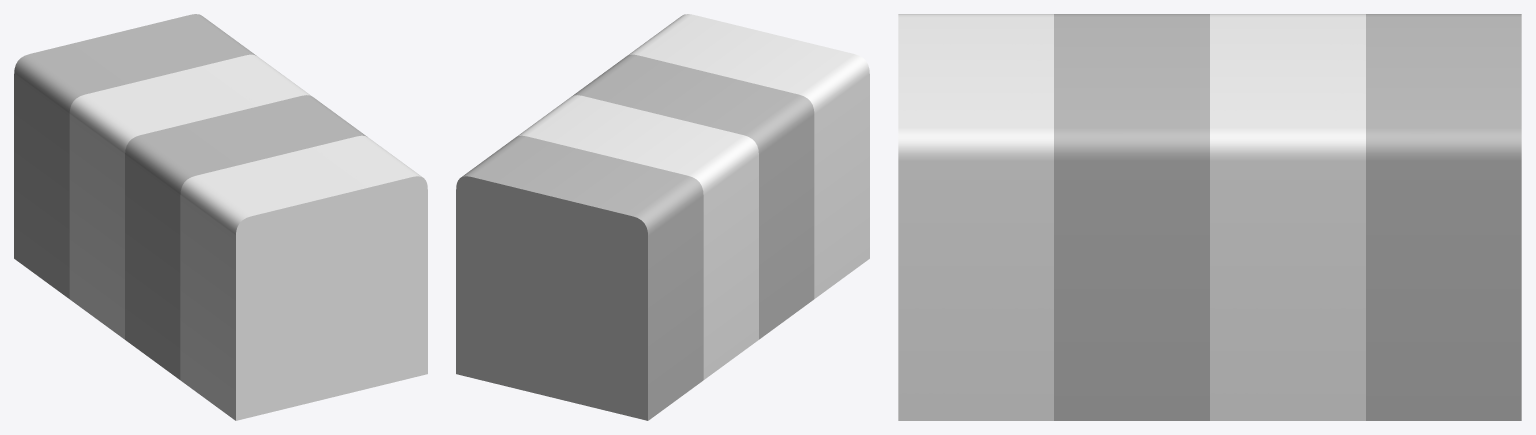
Rendered from Basic.FBX.
3 renders of one model, left to right at view 1: azimuth 30°, elevation 25°; view 2: azimuth 150°, elevation 25°; view 3: azimuth 270°, elevation 25°, orthographic. The views are drawn at different scales.
Parts seen in each view (by area): view 1: Basic; view 2: Basic; view 3: Basic.
Boxes of the visible parts, x1,y1,x2,y2 form: Basic: (14, 14, 427, 420); Basic: (456, 14, 869, 420); Basic: (898, 14, 1521, 420).
Size of the model in its own units: 197 by 394 by 197.
1 material, 1 textured.
